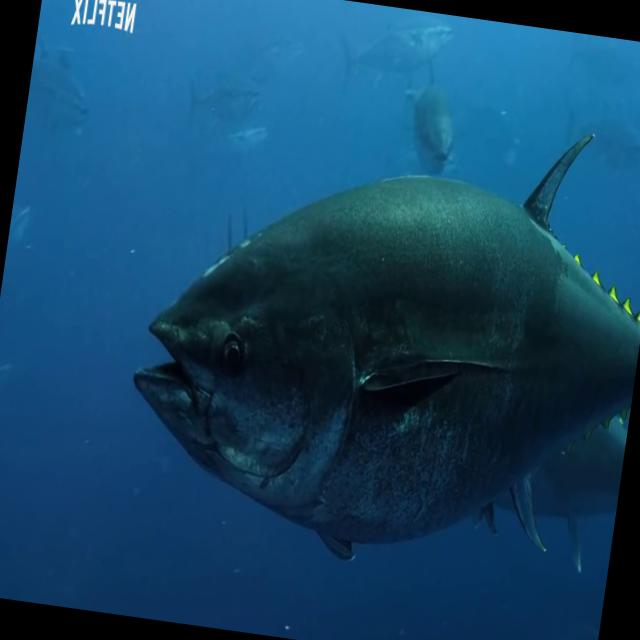fish: (108, 71, 640, 591)
